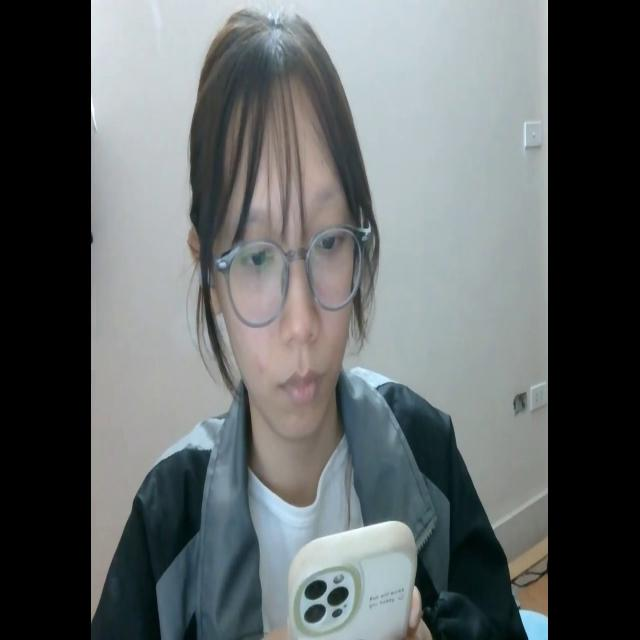phone: (282, 513, 420, 640)
student: (105, 14, 522, 640)
